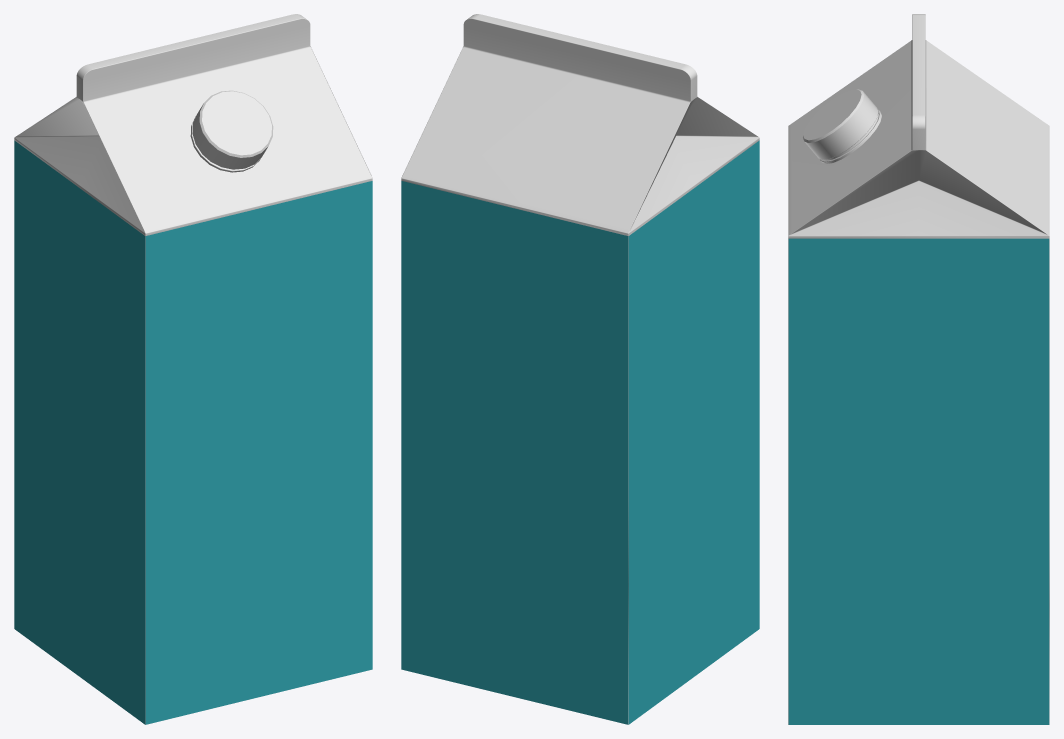
Rendered from SM_Milk_Carton.fbx.
3 renders of one model, left to right at view 1: azimuth 30°, elevation 25°; view 2: azimuth 150°, elevation 25°; view 3: azimuth 270°, elevation 25°, orthographic.
Parts seen in each view (by area): view 1: polySurface6; view 2: polySurface6; view 3: polySurface6.
Part boxes in pixels (<box>): polySurface6: <box>14,14,372,724</box>; polySurface6: <box>401,14,759,724</box>; polySurface6: <box>788,14,1049,724</box>.
Size of the model in its own units: 7 by 17.85 by 7.
